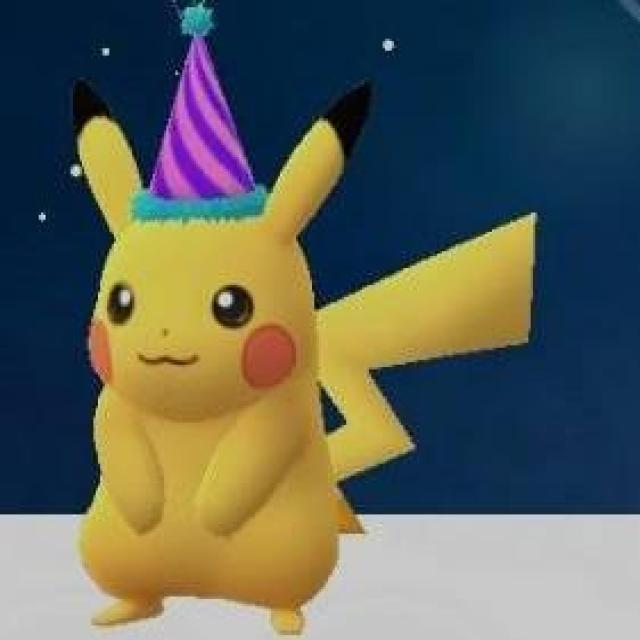pikachu: (72, 77, 538, 636)
